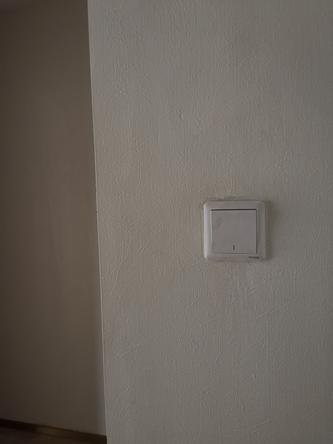switch: (205, 206, 261, 257)
